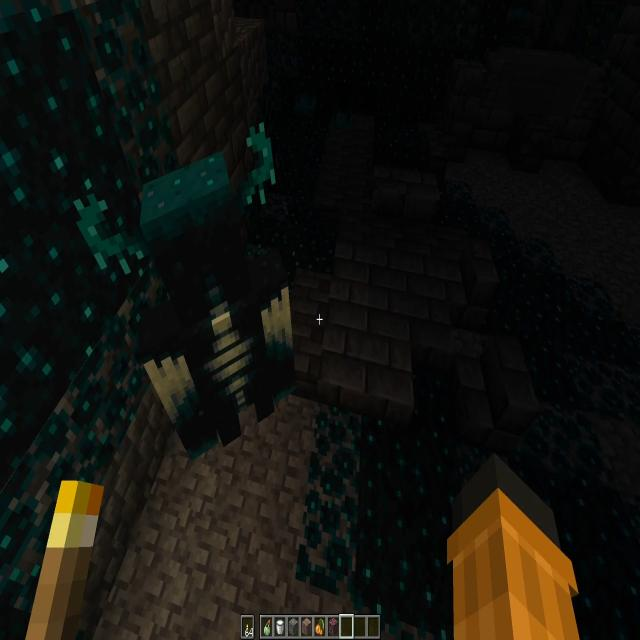Warden: (118, 156, 292, 432)
